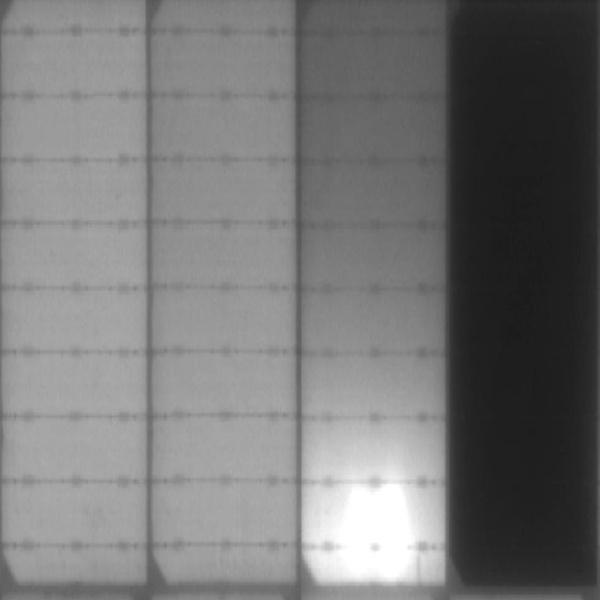hot_spot: (336, 492, 413, 538), (314, 553, 412, 578)
no_electricity: (445, 1, 596, 589)
